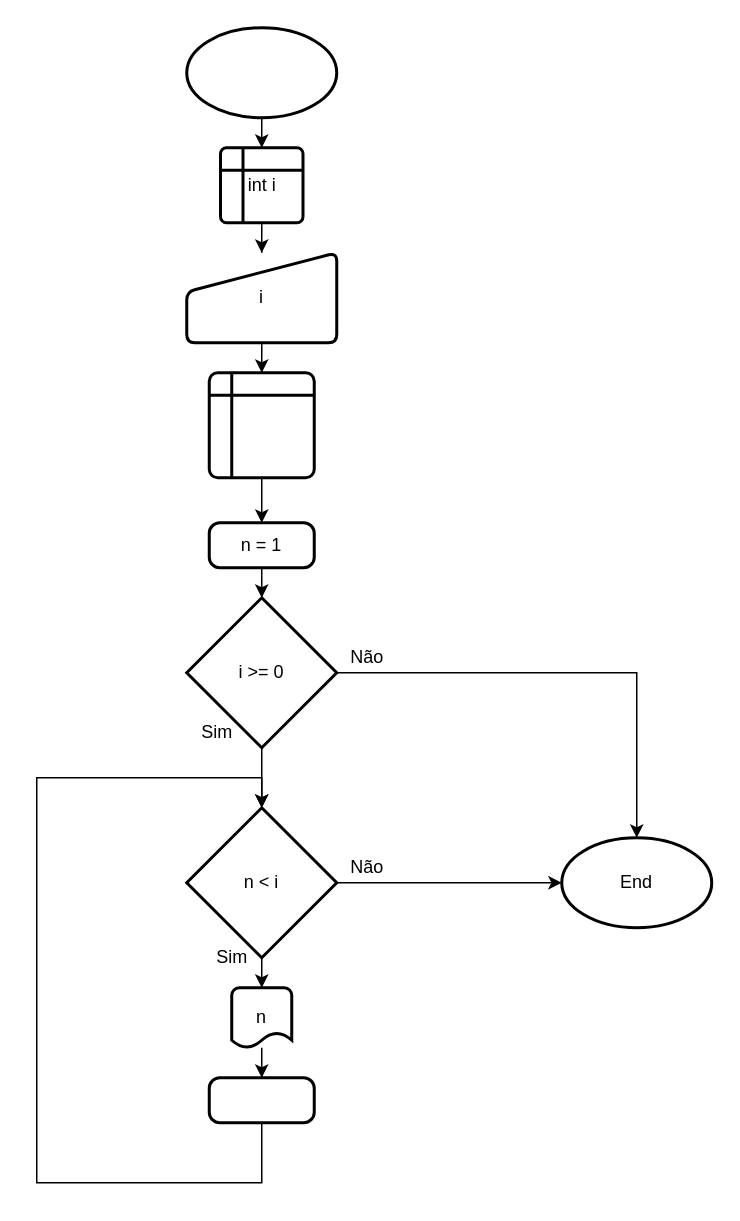
This 740x1221 diagram has some shape labels left out. Here are the shapes that lost their labels. From the top down, the centre of each, then its label:
At [261,72]: "Start".
At [261,424]: "int n".
At [261,1100]: "n = n +1".
